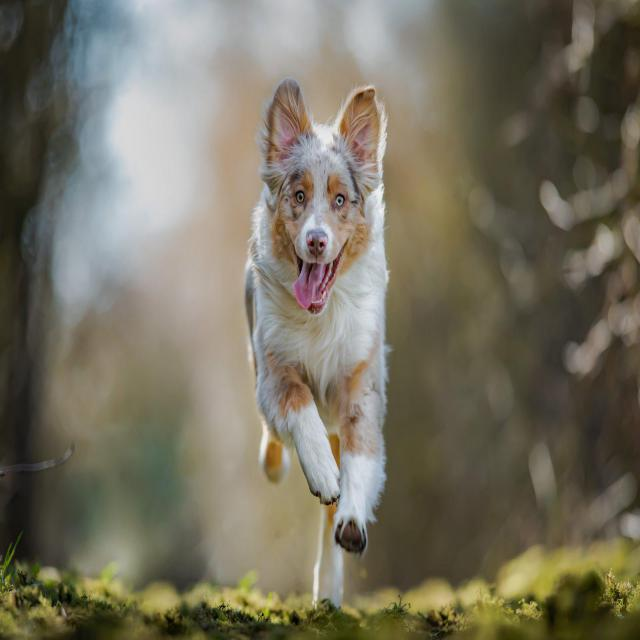Dog: (203, 49, 439, 626)
